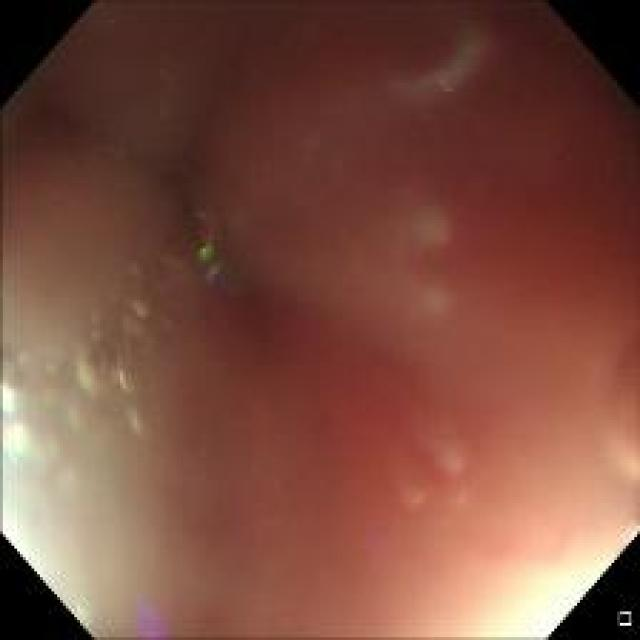blur: (2, 1, 635, 638)
bubbles: (1, 344, 146, 470), (79, 304, 165, 346), (130, 254, 172, 318)
color misalignment: (388, 24, 490, 105), (394, 412, 462, 520), (408, 189, 449, 250), (124, 590, 166, 635), (192, 226, 222, 288), (419, 271, 451, 325)
saturation: (472, 529, 632, 629), (1, 499, 82, 612)
specularity: (5, 424, 24, 448), (2, 388, 11, 415)
